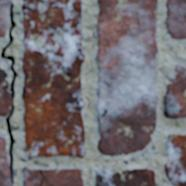brick: (22, 0, 84, 157), (97, 0, 157, 155), (164, 65, 185, 118), (165, 135, 185, 185), (97, 169, 154, 185), (166, 0, 185, 38), (42, 170, 82, 185), (0, 69, 12, 115), (0, 138, 11, 185), (0, 0, 11, 36), (24, 168, 40, 185)
crack: (0, 2, 18, 183), (97, 108, 108, 122), (39, 169, 43, 185), (98, 148, 102, 153)
